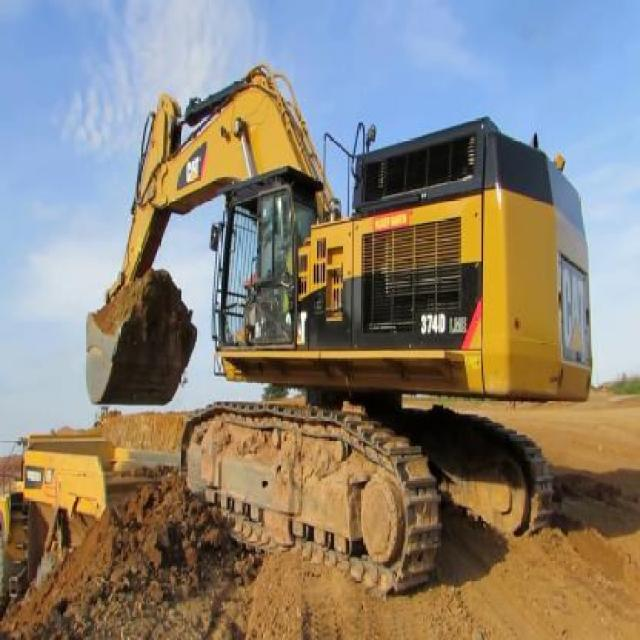dump_truck: (1, 433, 179, 598)
excavator: (79, 61, 595, 604)
